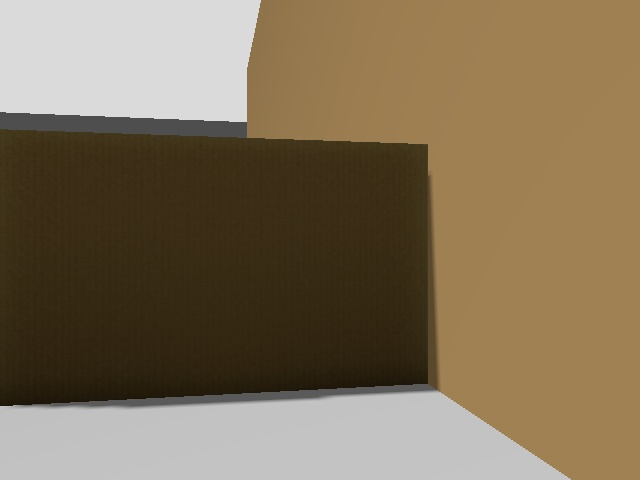package: (5, 133, 429, 388)
